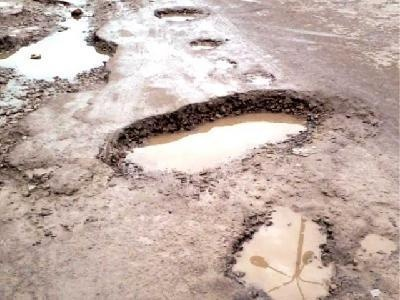pothole: (101, 85, 380, 190), (0, 0, 122, 160), (220, 200, 339, 300), (0, 161, 62, 192), (154, 3, 211, 24), (355, 229, 398, 254), (239, 69, 276, 87), (208, 56, 237, 76), (187, 36, 224, 51)
